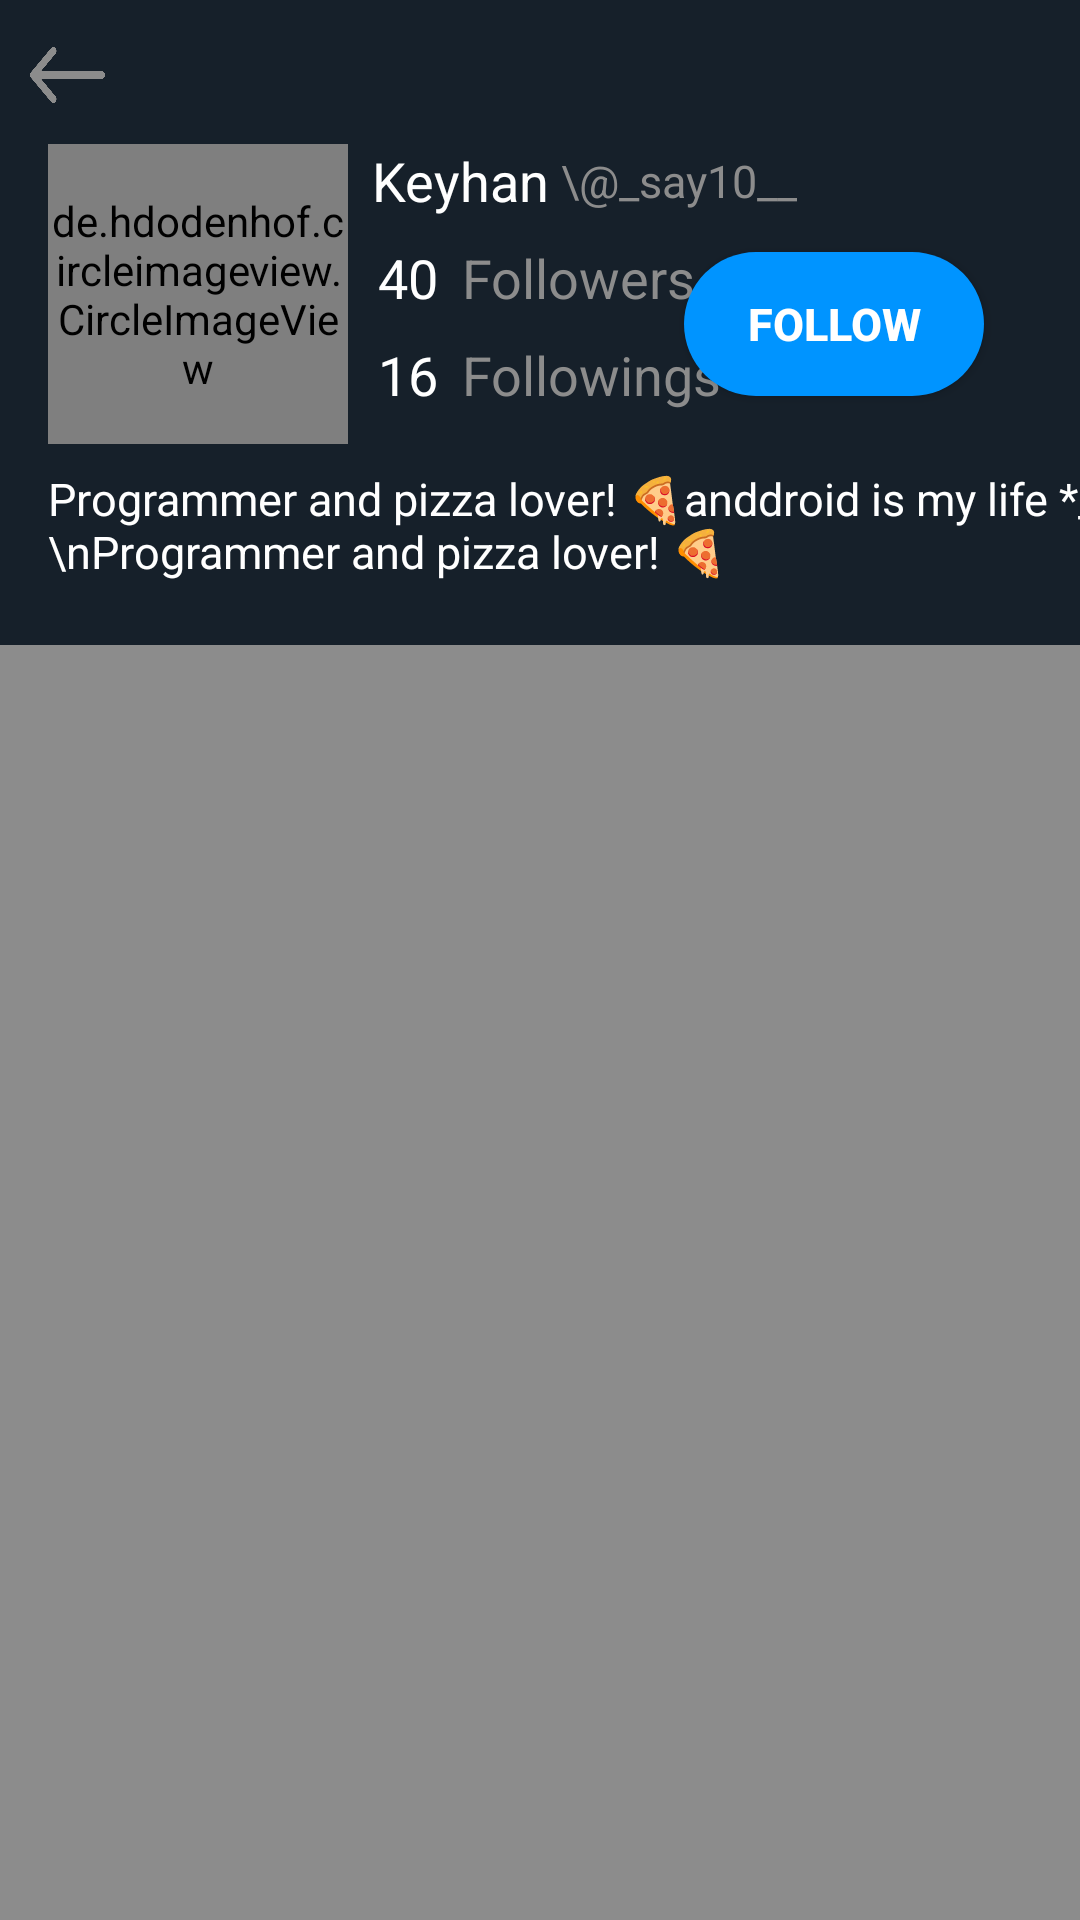

Locate icon controls on the screen. Image size 1080*1920, boxes as (x1, y1, x2, y2).
back: (30, 47, 105, 103)
